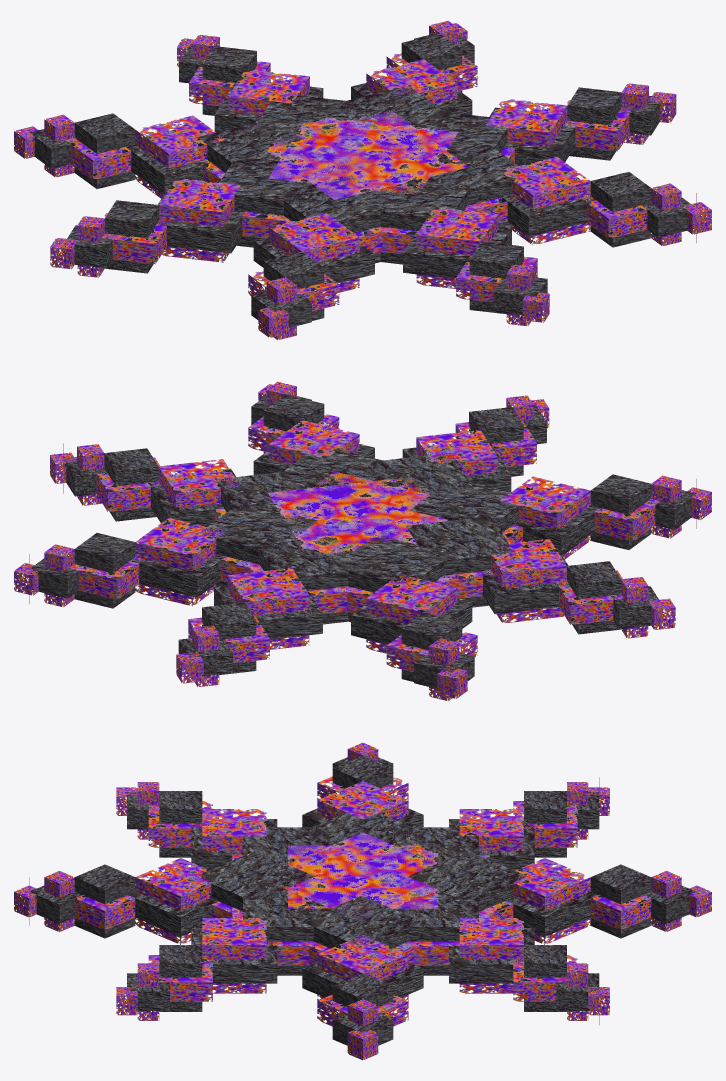
File: charm_of_the_knight.gltf
3 renders of one model, top to bottom at view 1: azimuth 30°, elevation 25°; view 2: azimuth 150°, elevation 25°; view 3: azimuth 270°, elevation 25°, orthographic. The views are drawn at different scales.
Parts seen in each view (by area): view 1: cube (×69), innermost (×2); view 2: cube (×69), innermost (×2); view 3: cube (×64), innermost (×2).
Part boxes in pixels (x1,y1,x2,y2): cube (×69): (14,33,711,337); innermost (×2): (267,111,468,199); cube (×69): (14,394,711,698); innermost (×2): (268,471,447,554); cube (×64): (14,755,711,1058); innermost (×2): (276,832,439,920).
Bounding box in the file's own units: 2.03 × 0.1562 × 2.03.
2 materials, 2 textured.
